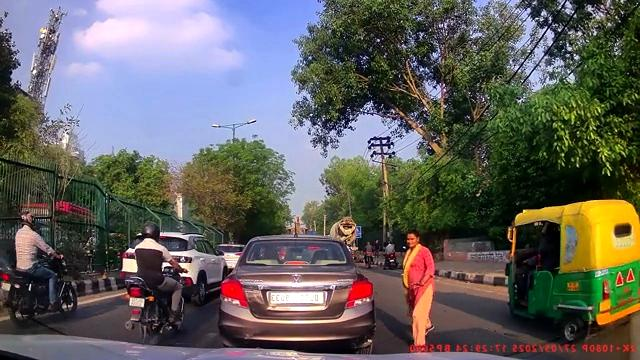motorcycle_with_helmet: (0, 211, 78, 328), (126, 223, 186, 345)
